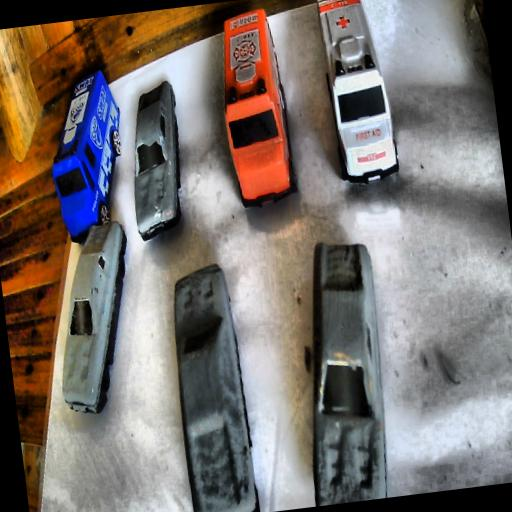ambulance: (313, 0, 402, 187)
fire_truck: (210, 6, 298, 210)
normal_car: (284, 238, 399, 506), (164, 262, 261, 512), (40, 220, 146, 420), (119, 80, 192, 244)
police car: (40, 68, 134, 246)
